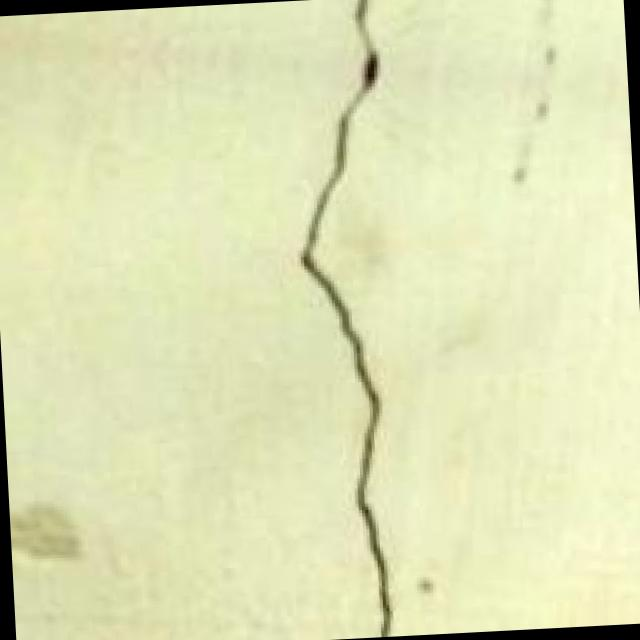crack: (269, 7, 503, 638)
